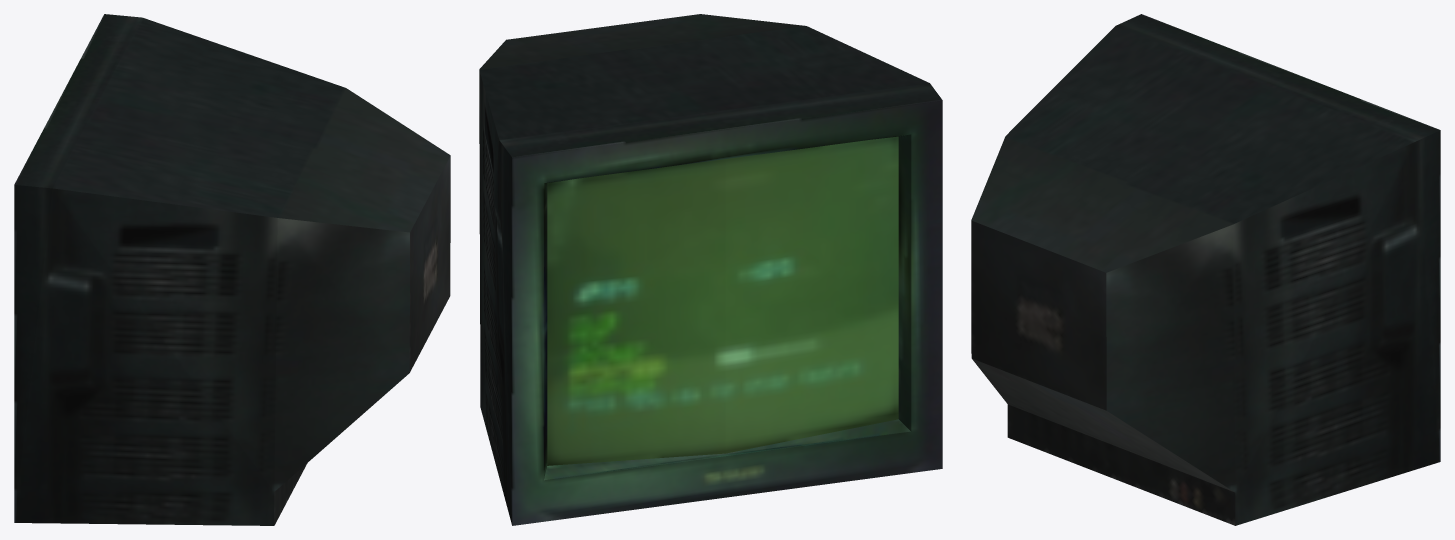
3 renders of one model, left to right at view 1: azimuth 30°, elevation 25°; view 2: azimuth 150°, elevation 25°; view 3: azimuth 270°, elevation 25°, orthographic. The views are drawn at different scales.
Visible parts, largest first — view 1: CRT TV; view 2: CRT TV; view 3: CRT TV.
Part boxes in pixels (x1=…): CRT TV: x1=14, y1=14, x2=450, y2=525; CRT TV: x1=479, y1=14, x2=942, y2=525; CRT TV: x1=971, y1=14, x2=1440, y2=525.
Bounding box in the file's own units: 0.9944 × 0.7675 × 0.9845.
1 material, 1 textured.
